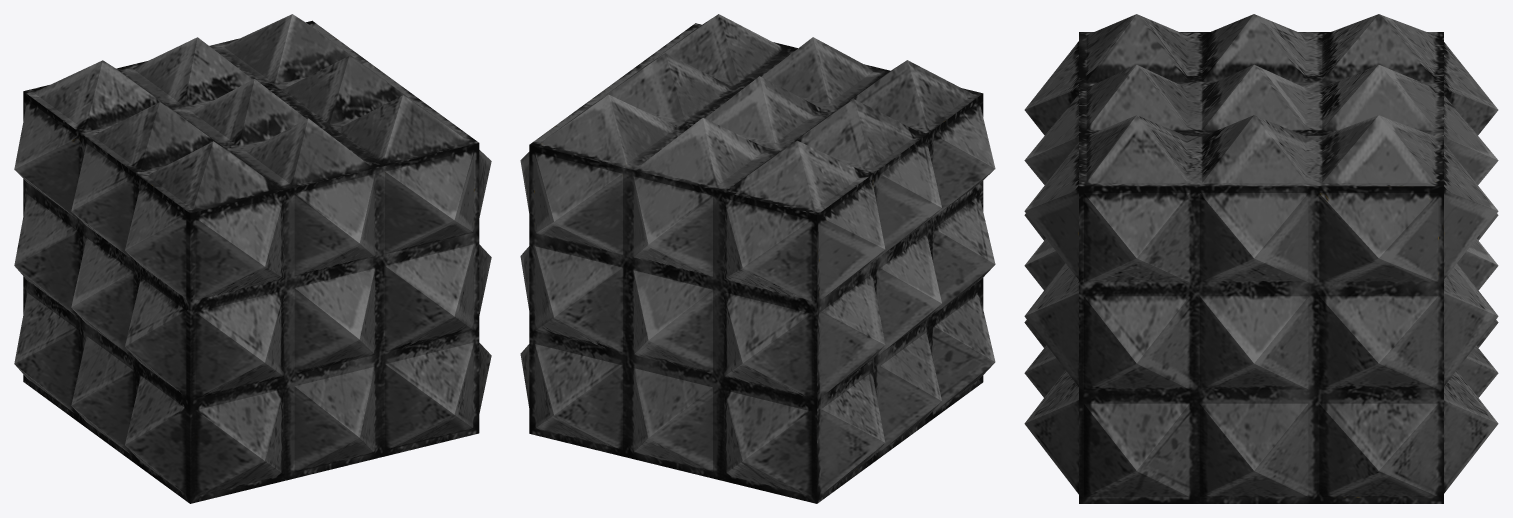
The model's file is muro_insonorizzato_V1.0.fbx.
The picture shows the model from 3 angles, left to right: view 1: azimuth 30°, elevation 25°; view 2: azimuth 150°, elevation 25°; view 3: azimuth 270°, elevation 25°; orthographic projection. The views are drawn at different scales.
Parts seen in each view (by area): view 1: muro_insonorizzato; view 2: muro_insonorizzato; view 3: muro_insonorizzato.
Part boxes in pixels (x1,y1,x2,y2): muro_insonorizzato: [14, 14, 491, 503]; muro_insonorizzato: [520, 14, 995, 503]; muro_insonorizzato: [1024, 14, 1498, 503].
Bounding box in the file's own units: 75.03 × 64.75 × 76.82.
